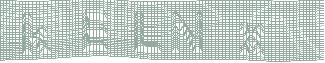E: (80, 8, 111, 53)
L: (133, 11, 162, 55)
N: (169, 8, 204, 55)
k: (21, 10, 52, 56)
x: (237, 21, 266, 58)
